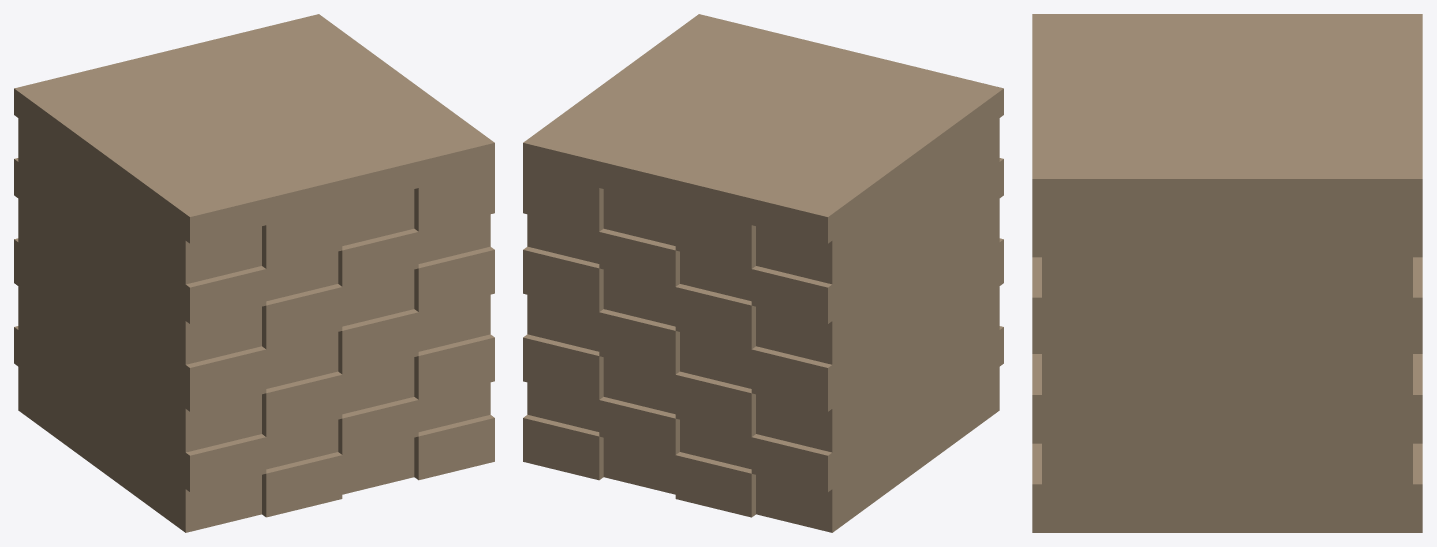
File: tileblock1.fbx
3 renders of one model, left to right at view 1: azimuth 30°, elevation 25°; view 2: azimuth 150°, elevation 25°; view 3: azimuth 270°, elevation 25°, orthographic. The views are drawn at different scales.
Visible parts, largest first — view 1: tileblock; view 2: tileblock; view 3: tileblock.
Part boxes in pixels (x1,y1,x2,y2): tileblock: [14, 14, 494, 532]; tileblock: [523, 14, 1003, 532]; tileblock: [1032, 14, 1422, 532].
Size of the model in its own units: 400 by 400 by 400.
